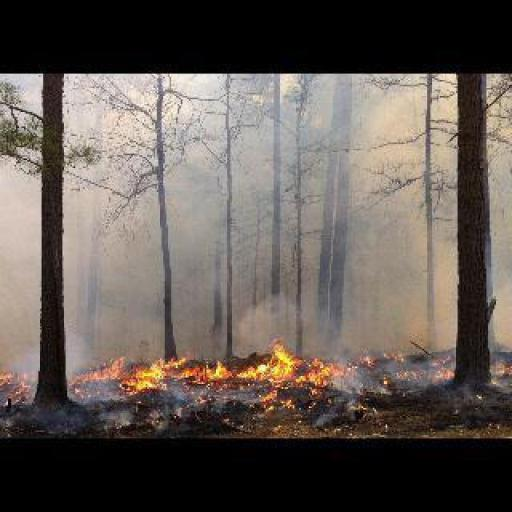smoke: (66, 72, 458, 341), (3, 384, 258, 432), (131, 341, 338, 384), (378, 366, 454, 388), (309, 395, 358, 426), (348, 342, 410, 366), (334, 366, 381, 396), (256, 390, 298, 414), (492, 354, 510, 392), (306, 382, 330, 400)
